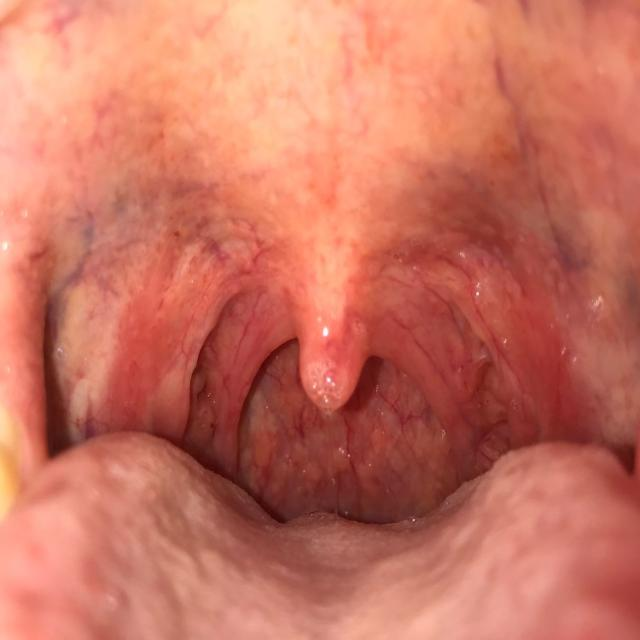Non Pharyngitis: (46, 224, 612, 486)
